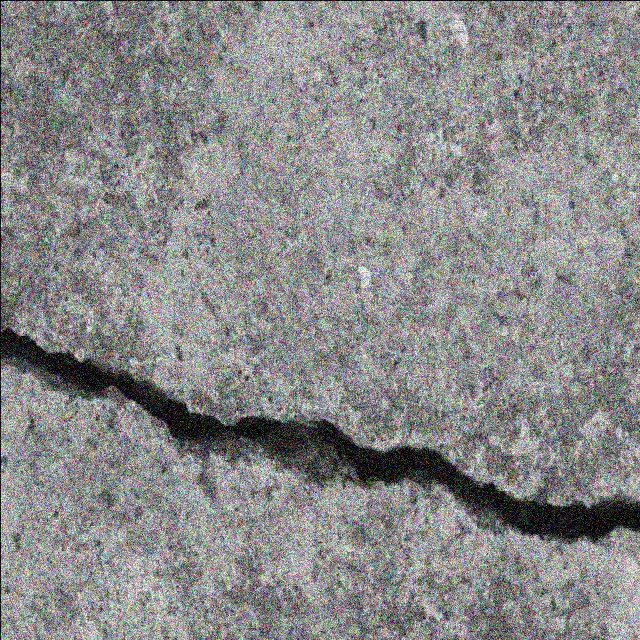SurfaceCrack: (0, 270, 639, 620)
